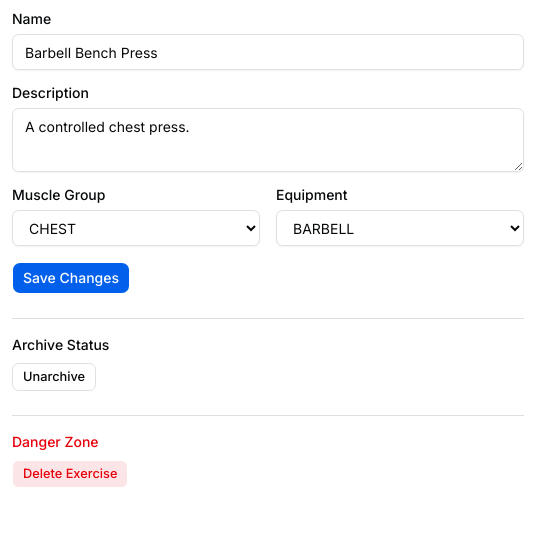
Scenario: EditExerciseForm › editExerciseForm_unarchiveFails_showsServerErrorAndDoesNotNavigate
Click the button "Unarchive" at coordinates (54, 377), box x1=12 y1=363 x2=96 y2=391
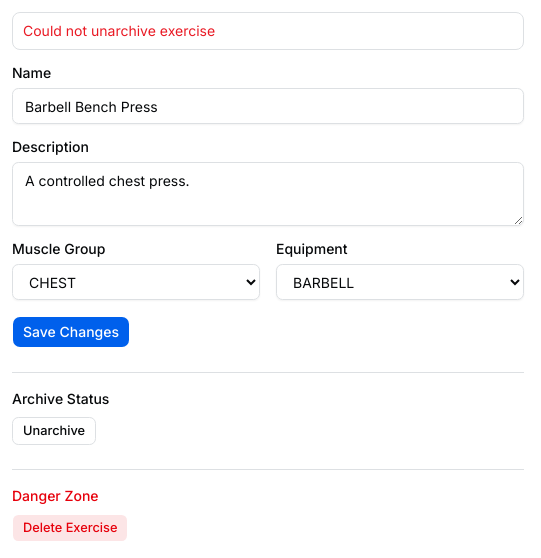
expect the text "Could not unarchive exercise" is shown: met, box x1=23 y1=22 x2=215 y2=39
